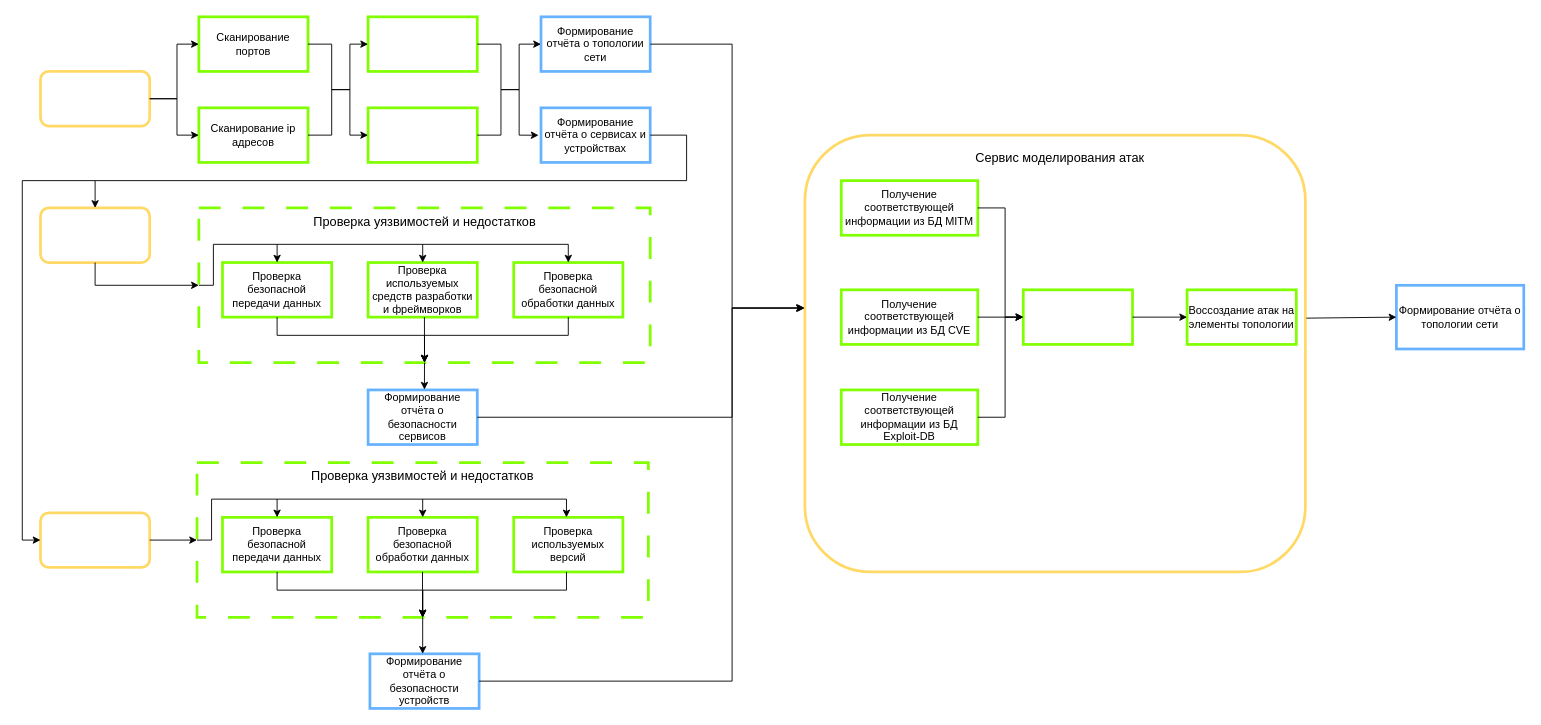
Some shapes in this 1541 by 725 pixel diagram are drawn without their labels. Here are the shapes that lost their labels. From the top down, the centre of each, then its label:
At point 422,43: "Получение информации о работающих сервисах".
At point 95,98: "Сканер сети".
At point 422,134: "Получение информации о устройствах в сети".
At point 95,234: "Сканер сервисов".
At point 1077,316: "Создание списка моделируемых атак".
At point 95,539: "Сканер устройст".
